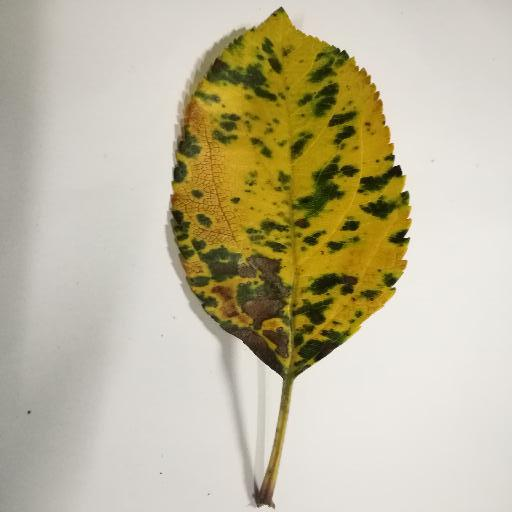Brown_Spot: (200, 228, 286, 374)
